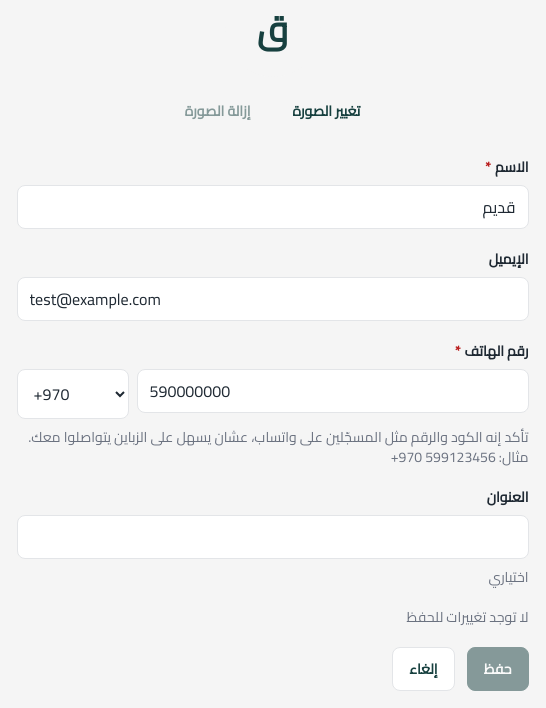
Test case: disables account save and shows the helper until a field changes, including after reversion
The image size is (546, 708).
Check: the button "حفظ" is disabled, box [467,647,528,691]
Check: the text "لا توجد تغييرات للحفظ" is shown, box [406,604,528,630]
Step 1. Replace the text in the field labelled "الاسم*" with "جديد" → (272,207), box [16,185,528,229]
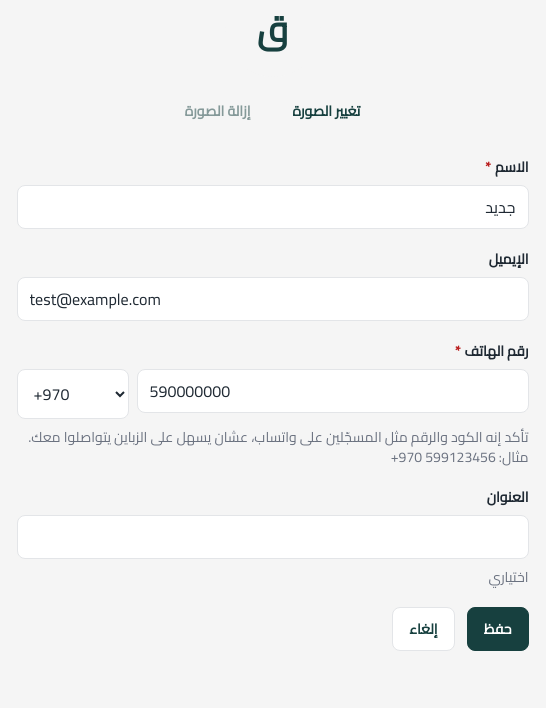
Check: the button "حفظ" is enabled, box [467,607,528,651]
Check: the text "لا توجد تغييرات للحفظ" is gone
Step 2. Replace the text in the field labelled "الاسم*" with "قديم" → (272,207), box [16,185,528,229]
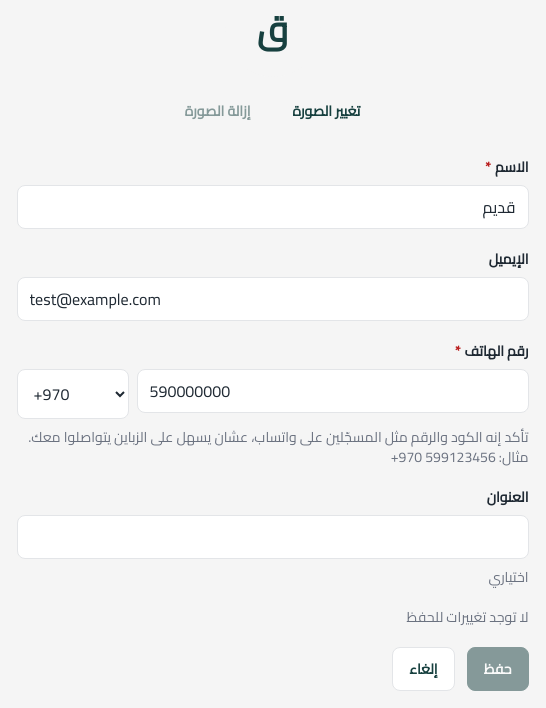
Check: the button "حفظ" is disabled, box [467,647,528,691]
